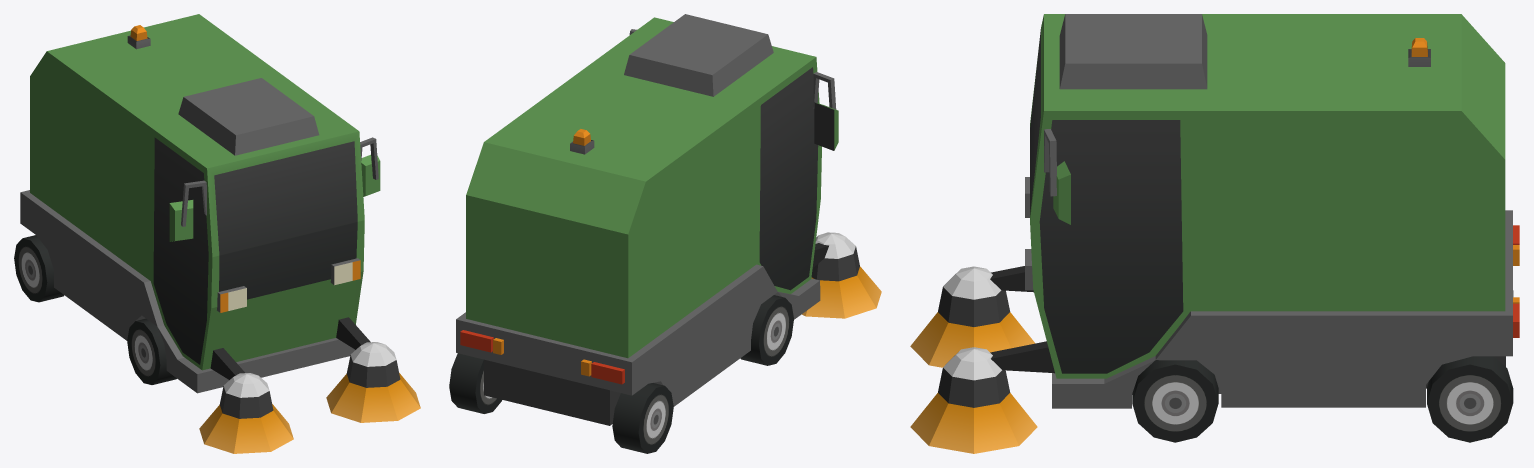
Rendered from StreetSweeper.fbx.
The picture shows the model from 3 angles, left to right: view 1: azimuth 30°, elevation 25°; view 2: azimuth 150°, elevation 25°; view 3: azimuth 270°, elevation 25°; orthographic projection. The views are drawn at different scales.
Parts seen in each view (by area): view 1: StreetSweeper, TireBR, TireFR; view 2: StreetSweeper, TireBR, TireFR, TireBL; view 3: StreetSweeper, TireBL, TireFL.
Boxes of the visible parts, left/top/right/bottom form: StreetSweeper: left=20, top=14, right=420, bottom=453; TireBR: left=14, top=235, right=64, bottom=302; TireFR: left=127, top=318, right=176, bottom=384; StreetSweeper: left=456, top=14, right=881, bottom=425; TireBR: left=612, top=383, right=673, bottom=453; TireFR: left=740, top=295, right=793, bottom=365; TireBL: left=449, top=353, right=501, bottom=413; StreetSweeper: left=910, top=14, right=1519, bottom=453; TireBL: left=1427, top=356, right=1513, bottom=442; TireFL: left=1132, top=360, right=1218, bottom=442.
Bounding box in the file's own units: 155 × 187 × 296.
